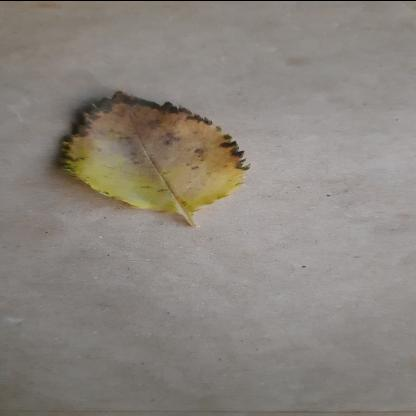downy-mildew: (48, 92, 252, 216)
